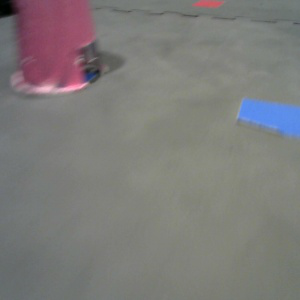middle: (9, 1, 109, 96)
